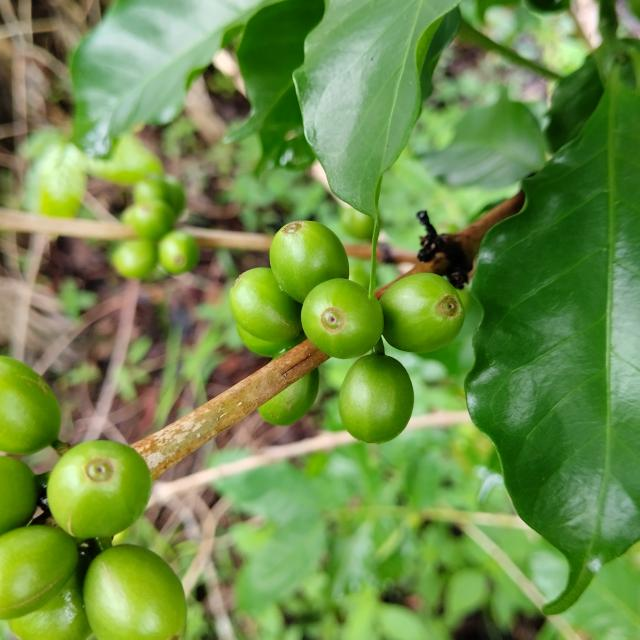green: (46, 441, 151, 539), (82, 545, 186, 640), (0, 526, 77, 621), (339, 352, 414, 444), (380, 273, 466, 353), (301, 278, 384, 359), (269, 220, 349, 303), (0, 356, 60, 455), (7, 574, 91, 640), (230, 268, 302, 343), (258, 368, 319, 426), (0, 457, 36, 536), (236, 323, 284, 357)
